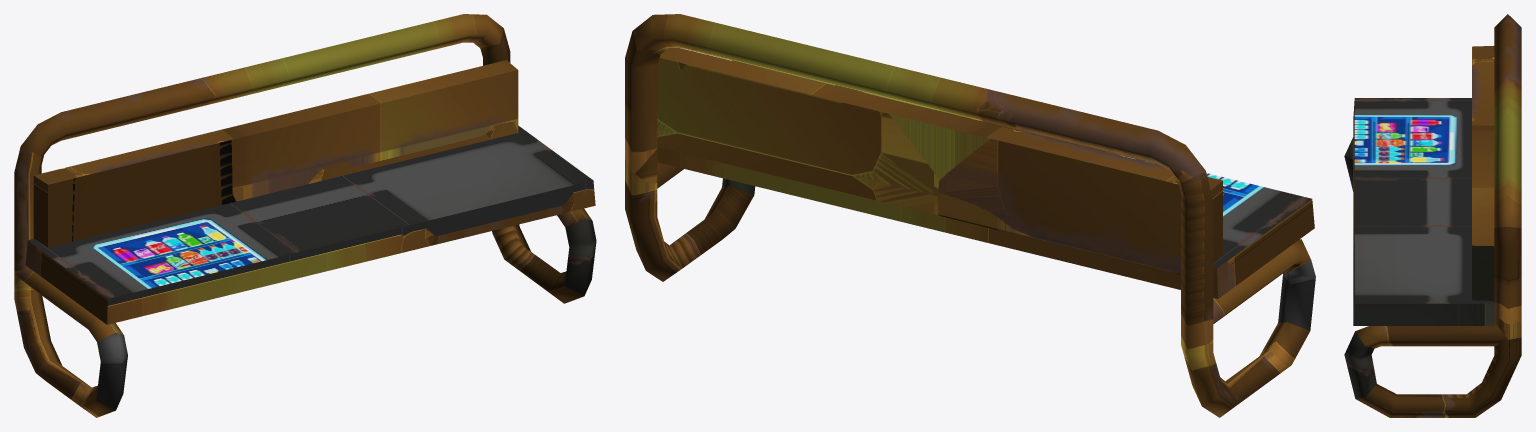
Rendered from bench 1.fbx.
3 views of the same model, side by side, from view 1: azimuth 30°, elevation 25°; view 2: azimuth 150°, elevation 25°; view 3: azimuth 270°, elevation 25° (orthographic). The views are drawn at different scales.
Parts seen in each view (by area): view 1: Bench; view 2: Bench; view 3: Bench.
Part boxes in pixels (x1,y1,x2,y2): Bench: [14, 14, 596, 417]; Bench: [625, 14, 1315, 417]; Bench: [1344, 14, 1521, 417].
Size of the model in its own units: 245 by 117 by 87.57.
